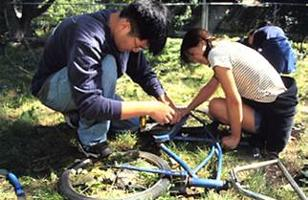person: (30, 1, 176, 156)
